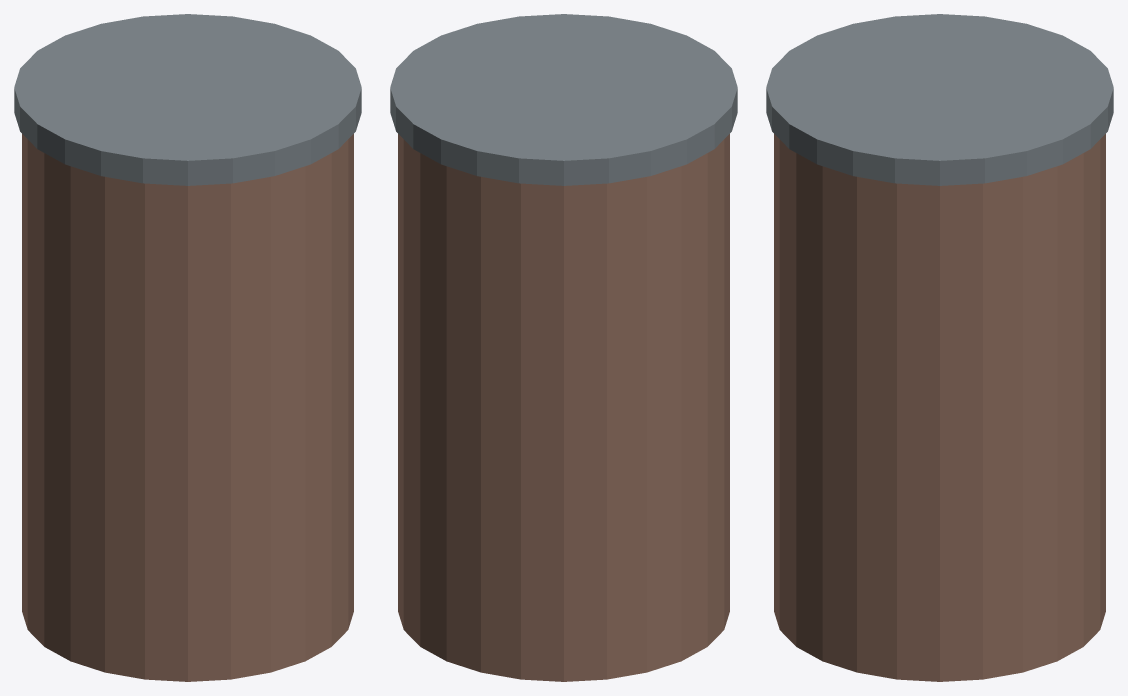
Rendered from BSM-002.glb.
The picture shows the model from 3 angles, left to right: view 1: azimuth 30°, elevation 25°; view 2: azimuth 150°, elevation 25°; view 3: azimuth 270°, elevation 25°; orthographic projection.
Parts seen in each view (by area): view 1: 000_Water_tank, 001_Tank_lid; view 2: 000_Water_tank, 001_Tank_lid; view 3: 000_Water_tank, 001_Tank_lid.
Part boxes in pixels (left/top/right/bottom): 000_Water_tank: left=22, top=134, right=353, bottom=681; 001_Tank_lid: left=14, top=14, right=361, bottom=185; 000_Water_tank: left=398, top=134, right=729, bottom=681; 001_Tank_lid: left=390, top=14, right=737, bottom=185; 000_Water_tank: left=774, top=134, right=1105, bottom=681; 001_Tank_lid: left=766, top=14, right=1113, bottom=185.
Bounding box in the file's own units: 0.88 × 1.47 × 0.88.
